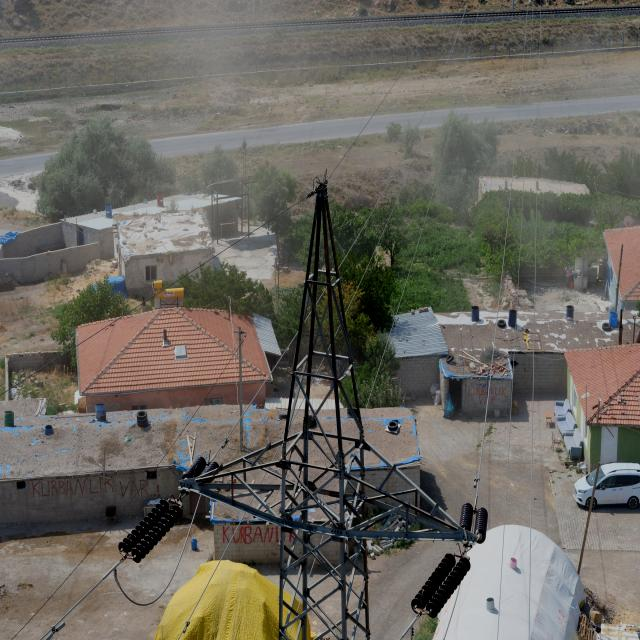voltage_line: (193, 186, 457, 609)
